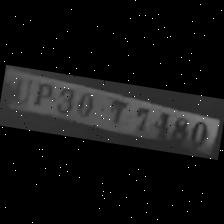0: (72, 88, 100, 118), (186, 116, 212, 148)
2: (126, 101, 152, 134)
3: (51, 82, 78, 114)
4: (148, 106, 172, 141)
8: (168, 112, 190, 144)
P: (27, 78, 55, 109)
T: (100, 94, 131, 127)
U: (4, 72, 30, 104)
